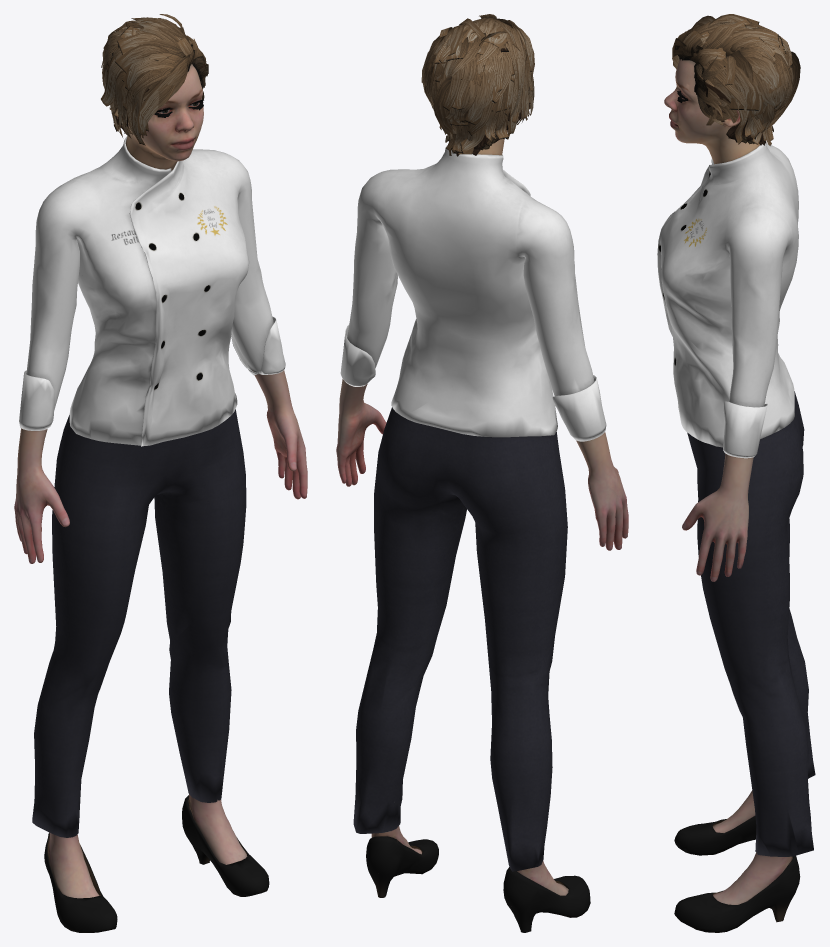
Rendered from chef.glb.
The picture shows the model from 3 angles, left to right: view 1: azimuth 30°, elevation 25°; view 2: azimuth 150°, elevation 25°; view 3: azimuth 270°, elevation 25°; orthographic projection.
Parts seen in each view (by area): view 1: Ch13_Shirt, Ch13_Pants, Ch13_Body, Ch13_Hair, Ch13_Shoe; view 2: Ch13_Pants, Ch13_Shirt, Ch13_Hair, Ch13_Body, Ch13_Shoe; view 3: Ch13_Shirt, Ch13_Pants, Ch13_Hair, Ch13_Body, Ch13_Shoe.
Part boxes in pixels (x1,y1,x2,y2): Ch13_Shirt: (19,135,285,446); Ch13_Pants: (32,409,246,837); Ch13_Body: (14,64,307,898); Ch13_Hair: (101,14,208,145); Ch13_Shoe: (44,795,269,932); Ch13_Pants: (353,407,567,871); Ch13_Shirt: (340,145,606,441); Ch13_Hair: (421,14,534,156); Ch13_Body: (336,118,628,895); Ch13_Shoe: (366,836,590,932); Ch13_Shirt: (657,143,798,458); Ch13_Pants: (687,391,815,856); Ch13_Hair: (672,14,800,145); Ch13_Body: (664,59,792,904); Ch13_Shoe: (674,816,800,932).
Bounding box in the file's own units: 0.2416 × 0.7203 × 0.1196.
Materials: 2 (2 with a texture image).
